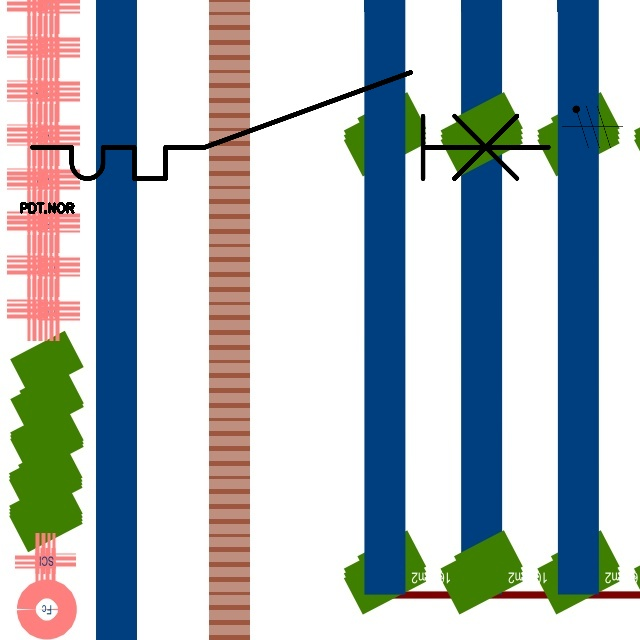interruptor_termomagnetico: (19, 59, 561, 192)
